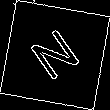N_SE: (24, 23, 86, 87)
